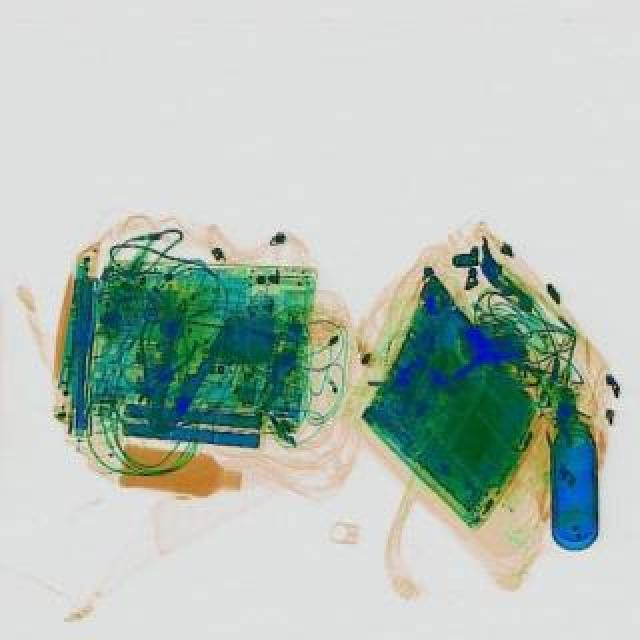wrench: (126, 298, 238, 442)
